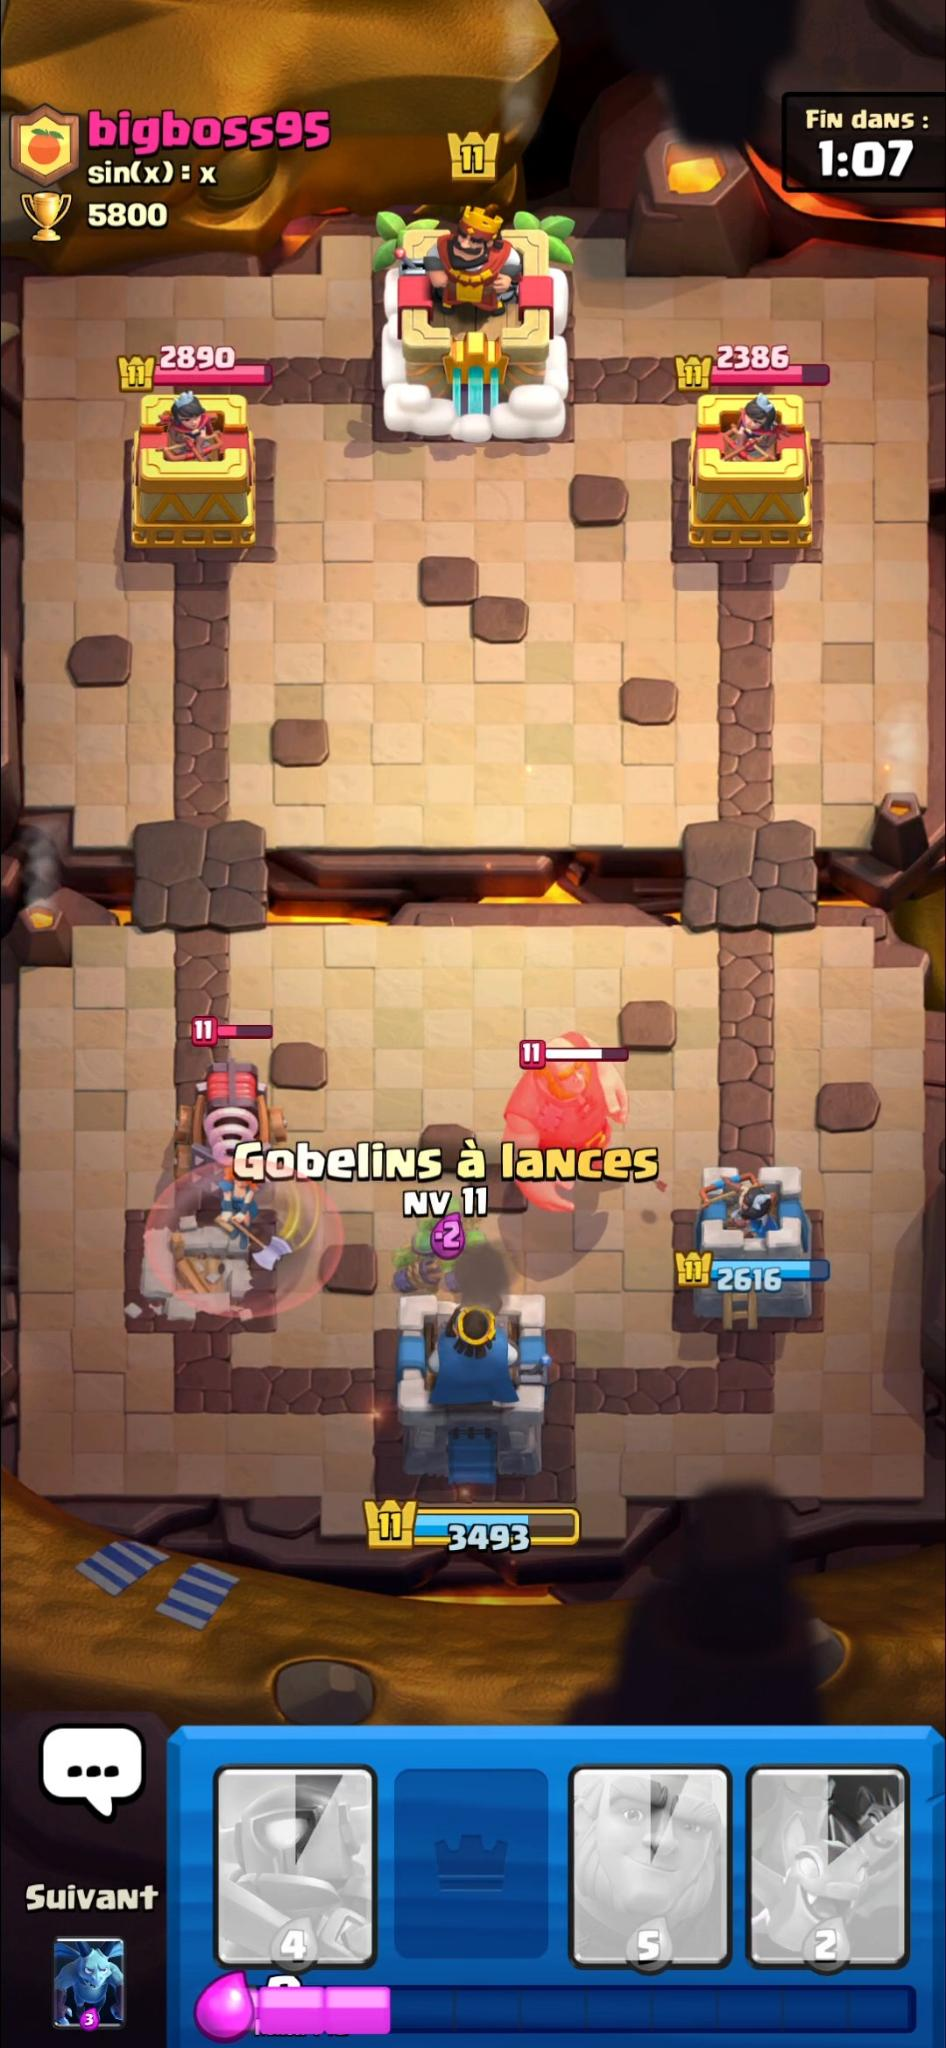geant: (507, 1031, 632, 1213)
valkyrie: (218, 1168, 294, 1272)
zappy: (176, 1059, 286, 1198)
